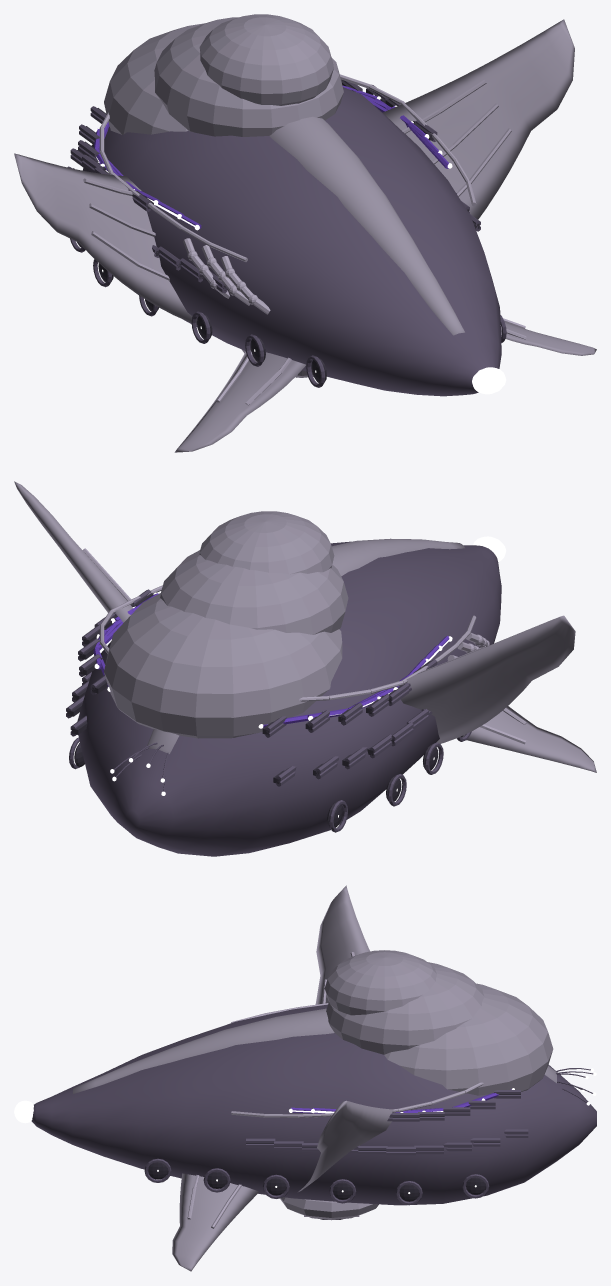
3 views of the same model, one above another, from view 1: azimuth 30°, elevation 25°; view 2: azimuth 150°, elevation 25°; view 3: azimuth 270°, elevation 25° (orthographic). The views are drawn at different scales.
Parts seen in each view (by area): view 1: RIMWARD_HULL, RIMWARD_ENGINE_GLOW; view 2: RIMWARD_HULL; view 3: RIMWARD_HULL.
Part boxes in pixels (left/top/right/bottom): RIMWARD_HULL: left=14, top=14, right=596, bottom=452; RIMWARD_ENGINE_GLOW: left=472, top=367, right=506, bottom=394; RIMWARD_HULL: left=14, top=481, right=596, bottom=856; RIMWARD_HULL: left=31, top=885, right=596, bottom=1271.
Bounding box in the file's own units: 13.88 × 7.62 × 15.78.
